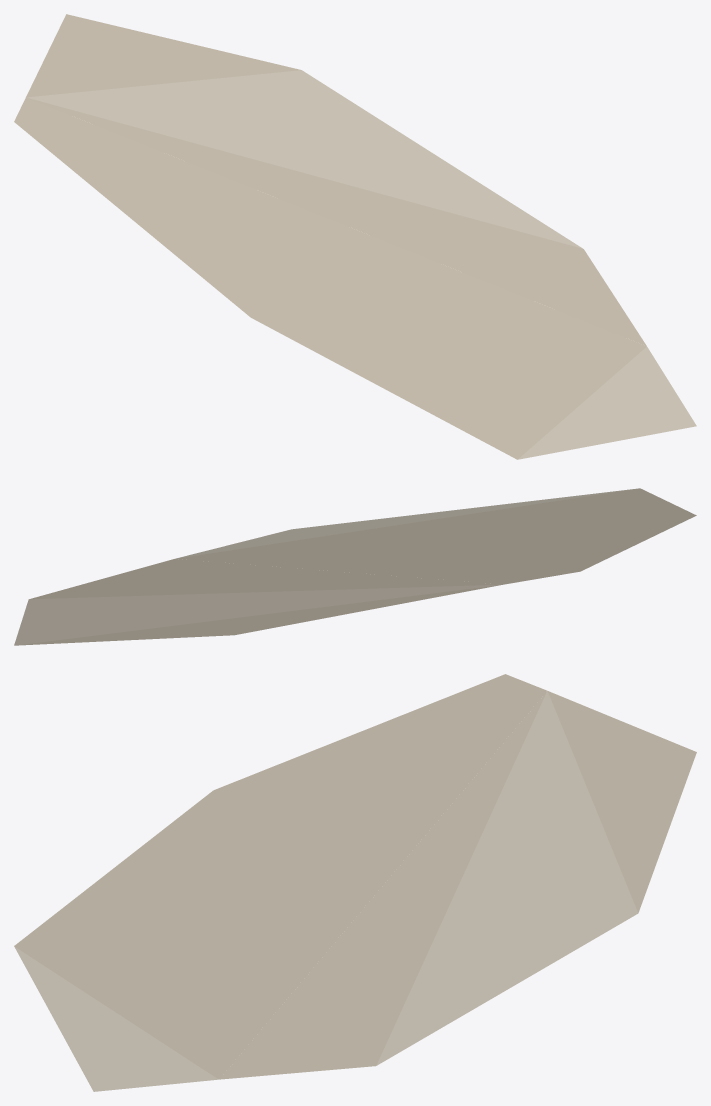
The model's file is SM_MS3_Feed_Eco_01_1.fbx.
The picture shows the model from 3 angles, top to bottom: view 1: azimuth 30°, elevation 25°; view 2: azimuth 150°, elevation 25°; view 3: azimuth 270°, elevation 25°; orthographic projection. The views are drawn at different scales.
Visible parts, largest first — view 1: SM_MS3_Feed_Eco_01_1; view 2: SM_MS3_Feed_Eco_01_1; view 3: SM_MS3_Feed_Eco_01_1.
Part boxes in pixels (box(x1,y1,x2,y2)): SM_MS3_Feed_Eco_01_1: box(14, 14, 696, 459); SM_MS3_Feed_Eco_01_1: box(14, 488, 696, 645); SM_MS3_Feed_Eco_01_1: box(14, 674, 696, 1091).
Size of the model in its own units: 2.65 by 3.53 by 1.26.
